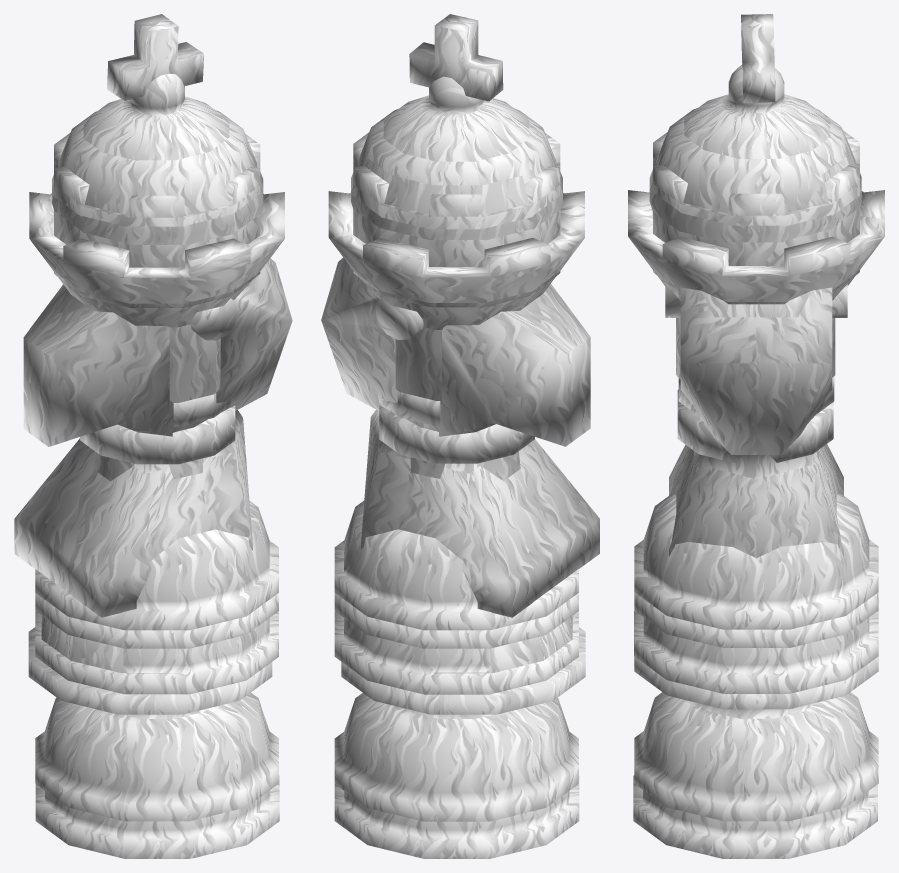
Rendered from Bishop.glb.
3 views of the same model, side by side, from view 1: azimuth 30°, elevation 25°; view 2: azimuth 150°, elevation 25°; view 3: azimuth 270°, elevation 25° (orthographic).
Parts seen in each view (by area): view 1: Knight, Queen, King, Rook, Bishop, Pawn; view 2: Knight, Queen, King, Rook, Bishop, Pawn; view 3: Queen, Knight, Rook, King, Bishop, Pawn.
Boxes of the visible parts, left/top/right/bottom form: Knight: left=14, top=258, right=292, bottom=714; Queen: left=29, top=74, right=284, bottom=821; King: left=35, top=14, right=279, bottom=858; Rook: left=35, top=133, right=278, bottom=630; Bishop: left=35, top=611, right=278, bottom=694; Pawn: left=35, top=593, right=278, bottom=648; Knight: left=321, top=257, right=599, bottom=714; Queen: left=328, top=76, right=584, bottom=821; King: left=334, top=14, right=579, bottom=858; Rook: left=334, top=132, right=578, bottom=630; Bishop: left=334, top=611, right=578, bottom=694; Pawn: left=334, top=593, right=578, bottom=648; Queen: left=628, top=65, right=884, bottom=821; Knight: left=634, top=284, right=878, bottom=709; Rook: left=634, top=130, right=878, bottom=629; King: left=633, top=14, right=877, bottom=858; Bishop: left=634, top=610, right=878, bottom=693; Pawn: left=634, top=592, right=878, bottom=647.
Bounding box in the file's own units: 0.1378 × 0.4453 × 0.1318.
1 material, 1 textured.
